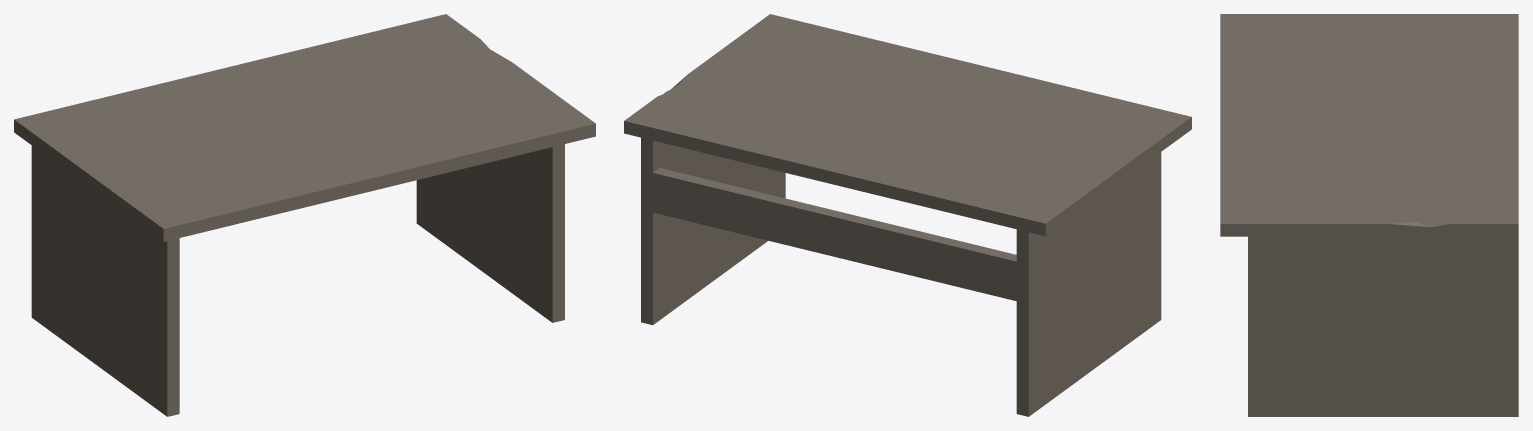
Rendered from Wh_Table.fbx.
3 views of the same model, side by side, from view 1: azimuth 30°, elevation 25°; view 2: azimuth 150°, elevation 25°; view 3: azimuth 270°, elevation 25° (orthographic). The views are drawn at different scales.
Parts seen in each view (by area): view 1: Cube.1057; view 2: Cube.1057; view 3: Cube.1057.
Boxes of the visible parts, x1=… form: Cube.1057: x1=14, y1=14, x2=595, y2=416; Cube.1057: x1=624, y1=14, x2=1191, y2=416; Cube.1057: x1=1220, y1=14, x2=1518, y2=416.
Size of the model in its own units: 200 by 89.47 by 120.
